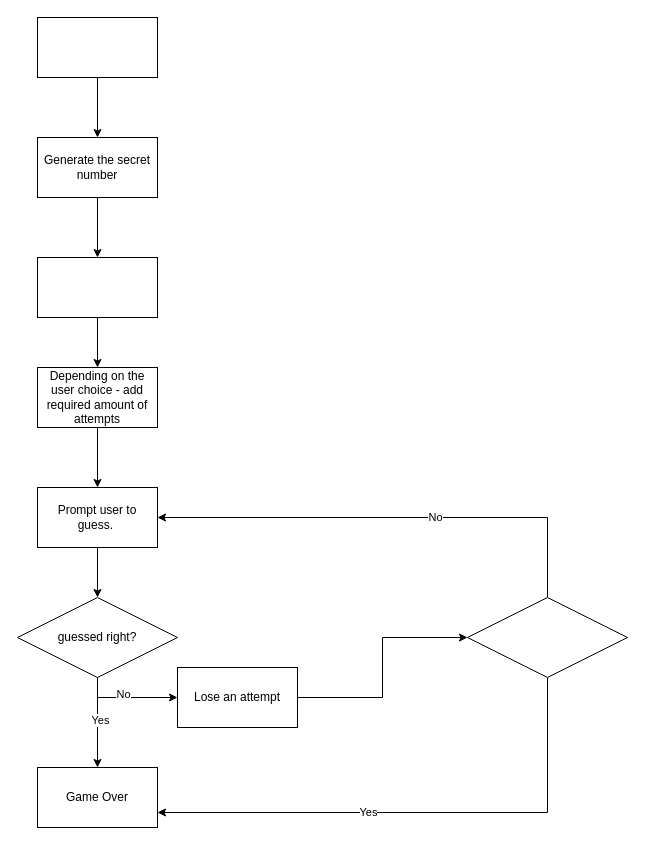
Some shapes in this 645 by 845 pixel diagram are drawn without their labels. Each missing label, with the centre of its shape:
"Is the user run out of attempts?" goes at point 547,637.
"Prompt a user to choose difficulty" goes at point 97,287.
"START" goes at point 97,47.
